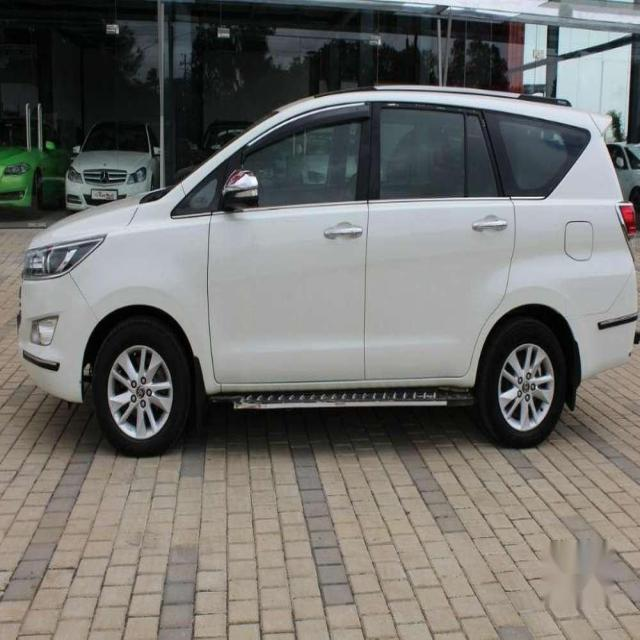light_vehicle: (16, 85, 639, 459)
